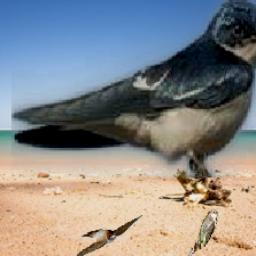Cuckoo: (186, 208, 219, 256)
Swallow: (13, 0, 256, 179), (67, 216, 142, 256)
